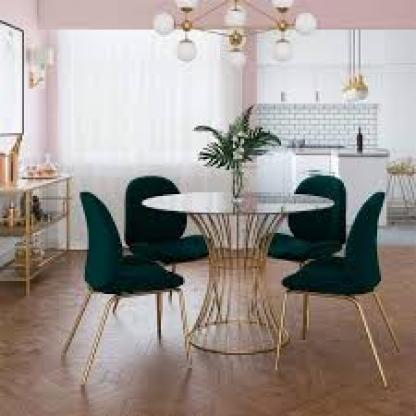Dining Table: (78, 144, 410, 393)
